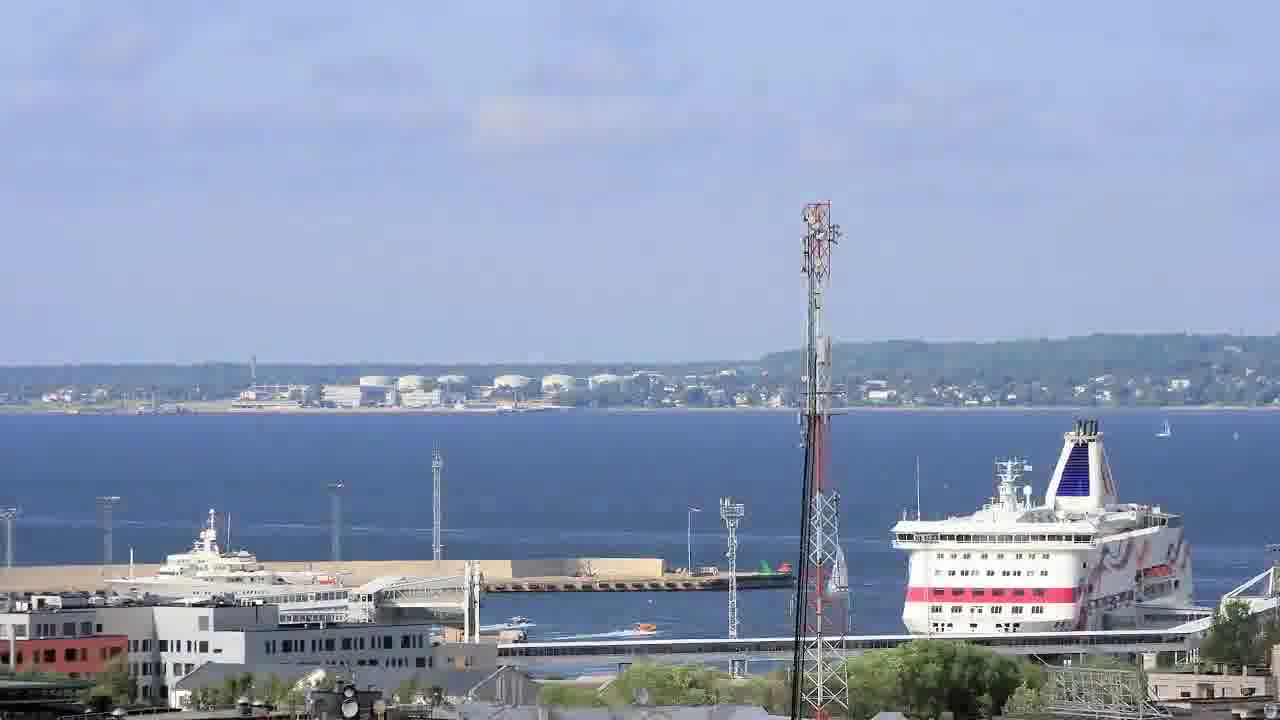type-0: (608, 613, 674, 645), (493, 608, 542, 638)
type-2: (1144, 400, 1183, 446)
type-3: (868, 415, 1225, 638), (84, 511, 353, 609)
